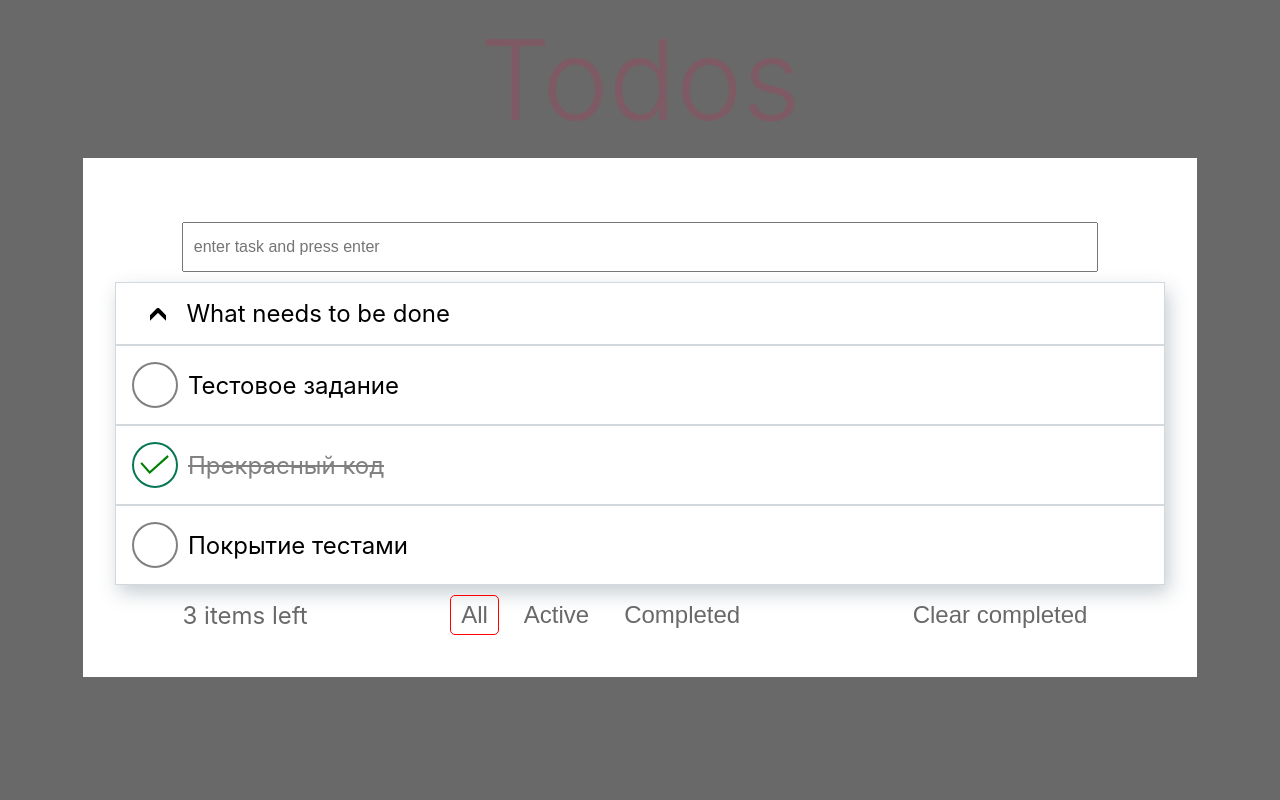
Scenario: TodosPage › filters checking › active button is pushed and active todos stay only
The image size is (1280, 800).
Click the button with test id "active_btn" at (556, 615), box [514,596,599,634]
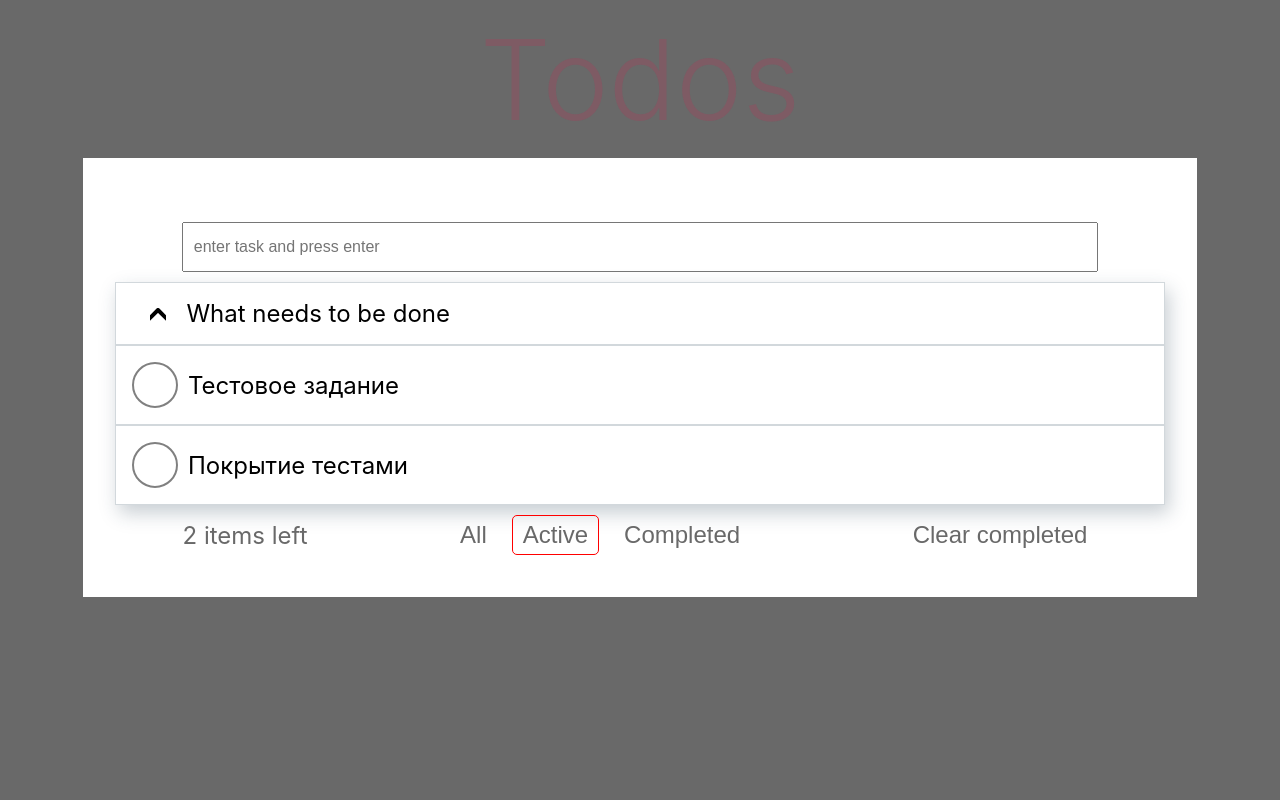
Expected: the text "Тестовое задание" is shown, [188,371,399,400]
Expected: the text "Прекрасный код" is gone
